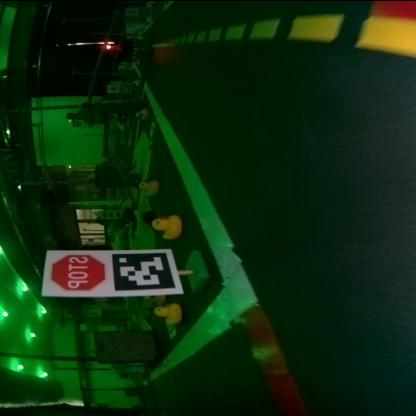Duckie: (152, 213, 182, 237), (155, 303, 181, 320), (138, 178, 158, 192), (146, 294, 166, 303), (134, 108, 148, 118)
QR code: (112, 251, 174, 289)
Stop sign: (48, 251, 105, 292)
